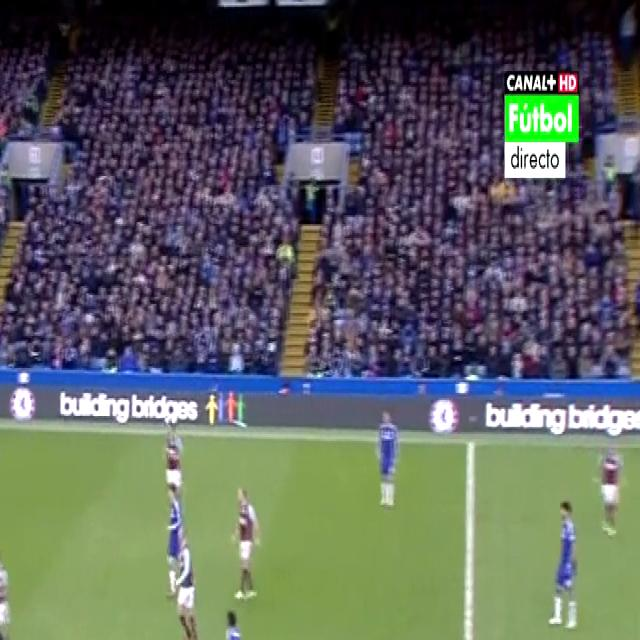referee: (0, 595, 11, 640)
soccer-player: (541, 487, 581, 640), (226, 475, 268, 612), (585, 432, 630, 549), (368, 396, 406, 520), (168, 522, 201, 640), (160, 485, 192, 598), (158, 407, 188, 508), (214, 602, 253, 640), (0, 540, 14, 640), (0, 416, 1, 540), (123, 638, 165, 640)
